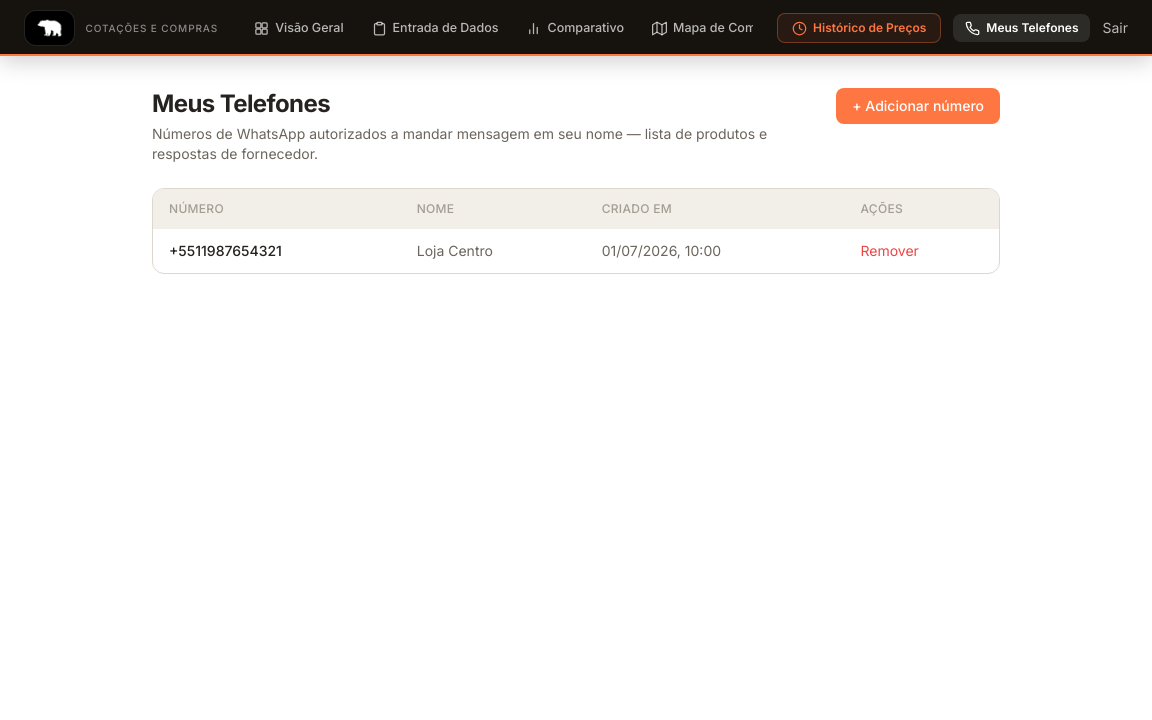
MeusTelefonesPage — remover telefone › mostra mensagem de erro quando a remoção falha
This screenshot has width=1152, height=720.
Check: the text "+5511987654321" is shown, box [153, 229, 401, 273]
Click the button "Remover" at (890, 251), box [860, 241, 919, 261]
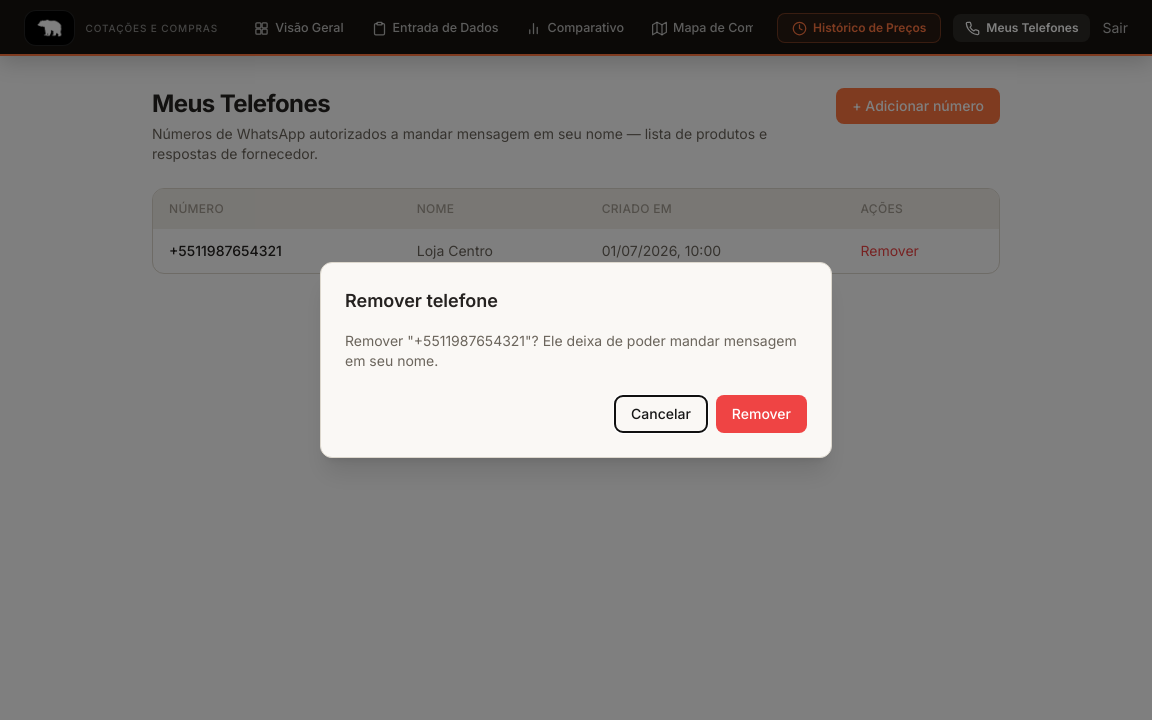
Click the button "Remover" at (761, 414), box [716, 395, 807, 433]
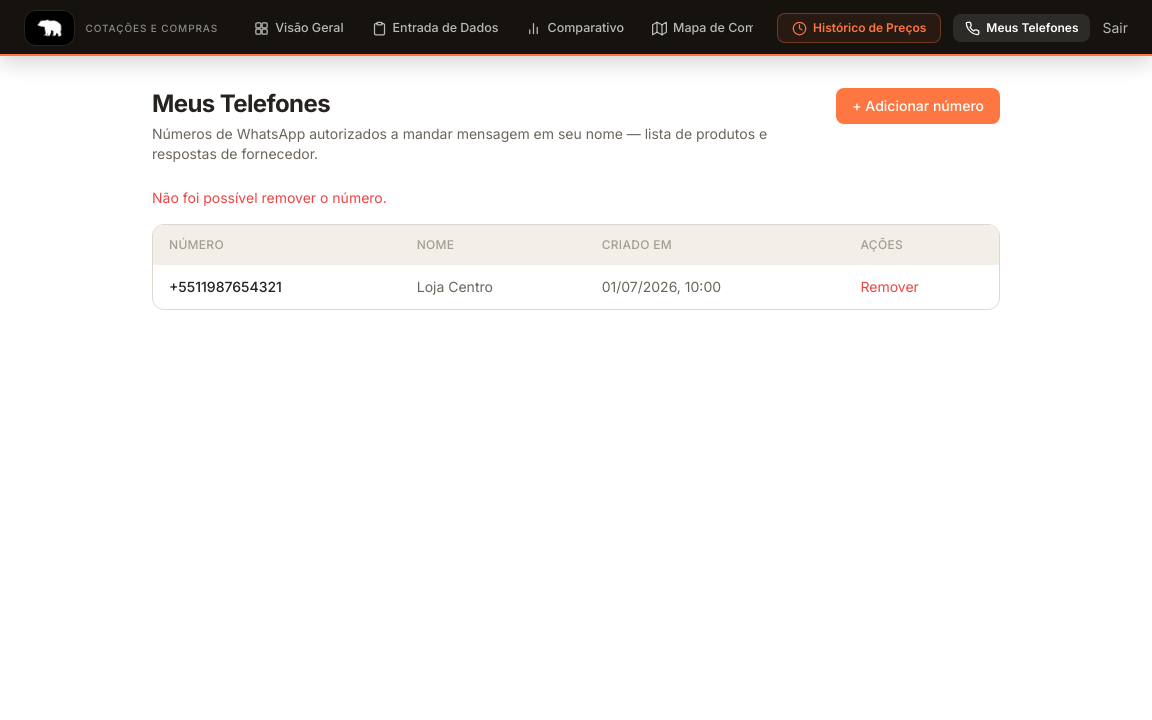
Check: the text "+5511987654321" is shown, box [153, 265, 401, 309]
Check: the text "Não foi possível remover o número." is shown, box [152, 189, 387, 206]
